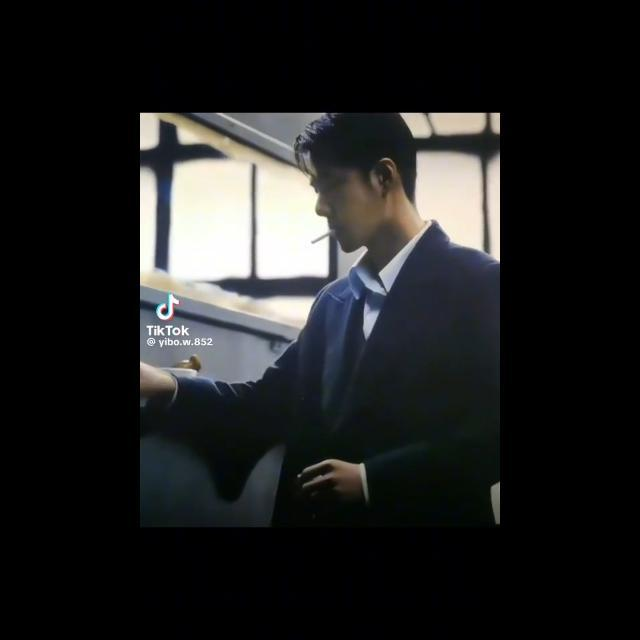rokok: (304, 226, 346, 250)
